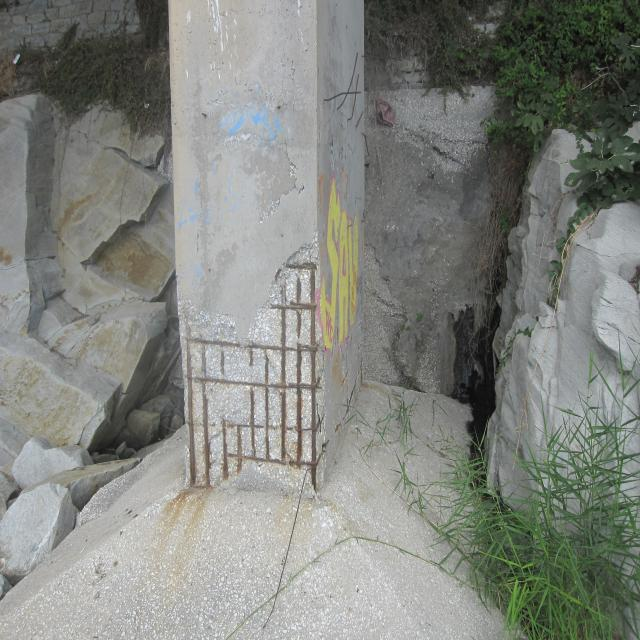corrosion: (176, 258, 324, 498), (274, 485, 378, 550), (153, 489, 212, 562)
